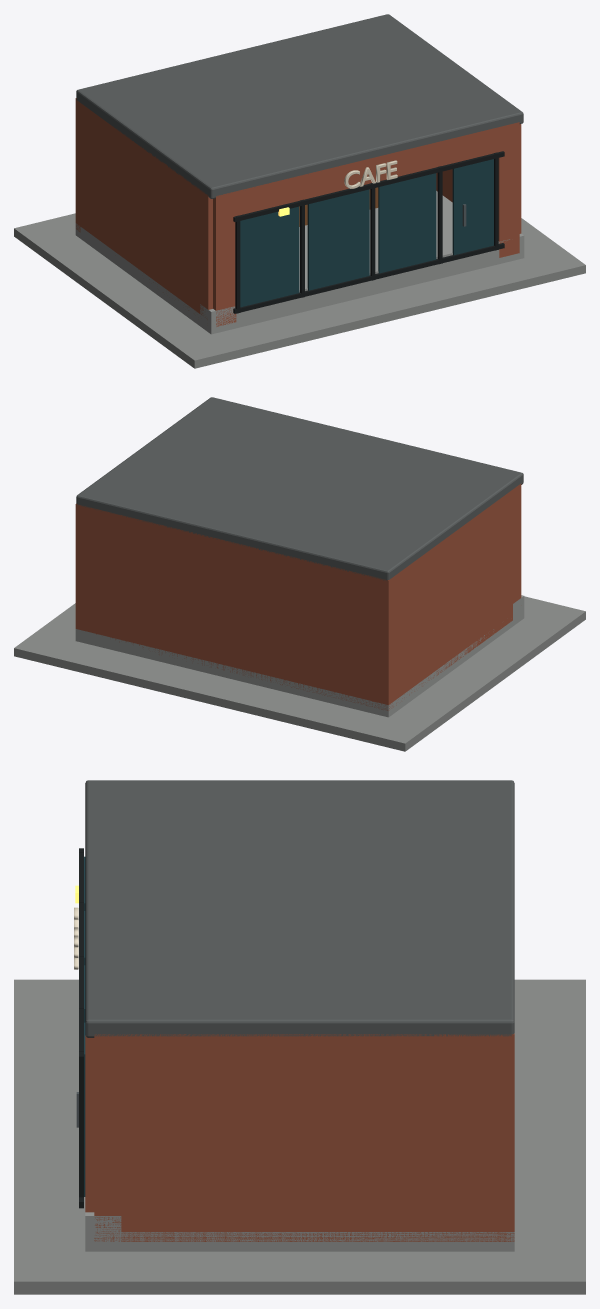
File: CafeStage 6.glb
3 renders of one model, top to bottom at view 1: azimuth 30°, elevation 25°; view 2: azimuth 150°, elevation 25°; view 3: azimuth 270°, elevation 25°, orthographic. The views are drawn at different scales.
Parts seen in each view (by area): view 1: FlatRoof.002, CafeWalls.002, TileBase_10x8.005, StorefrontGlass.001, CafeFoundation.004, StorefrontFrames.001, CafeSign; view 2: CafeWalls.002, FlatRoof.002, TileBase_10x8.005, CafeFoundation.004; view 3: FlatRoof.002, CafeWalls.002, TileBase_10x8.005, CafeFoundation.004, StorefrontFrames.001, StorefrontGlass.001.
Part boxes in pixels (x1,y1,x2,y2): FlatRoof.002: (76, 14, 523, 198); CafeWalls.002: (75, 98, 521, 326); TileBase_10x8.005: (14, 213, 585, 368); StorefrontGlass.001: (240, 159, 493, 307); CafeFoundation.004: (75, 191, 524, 334); StorefrontFrames.001: (233, 151, 504, 313); CafeSign: (344, 160, 397, 188); CafeWalls.002: (75, 483, 521, 710); FlatRoof.002: (76, 397, 523, 580); TileBase_10x8.005: (14, 596, 585, 751); CafeFoundation.004: (75, 595, 524, 717); FlatRoof.002: (85, 780, 514, 1037); CafeWalls.002: (85, 1033, 514, 1241); TileBase_10x8.005: (14, 979, 585, 1294); CafeFoundation.004: (85, 1212, 514, 1251); StorefrontFrames.001: (79, 848, 83, 1208); StorefrontGlass.001: (84, 856, 85, 1196).
Size of the model in its own units: 10 by 3.76 by 8.
